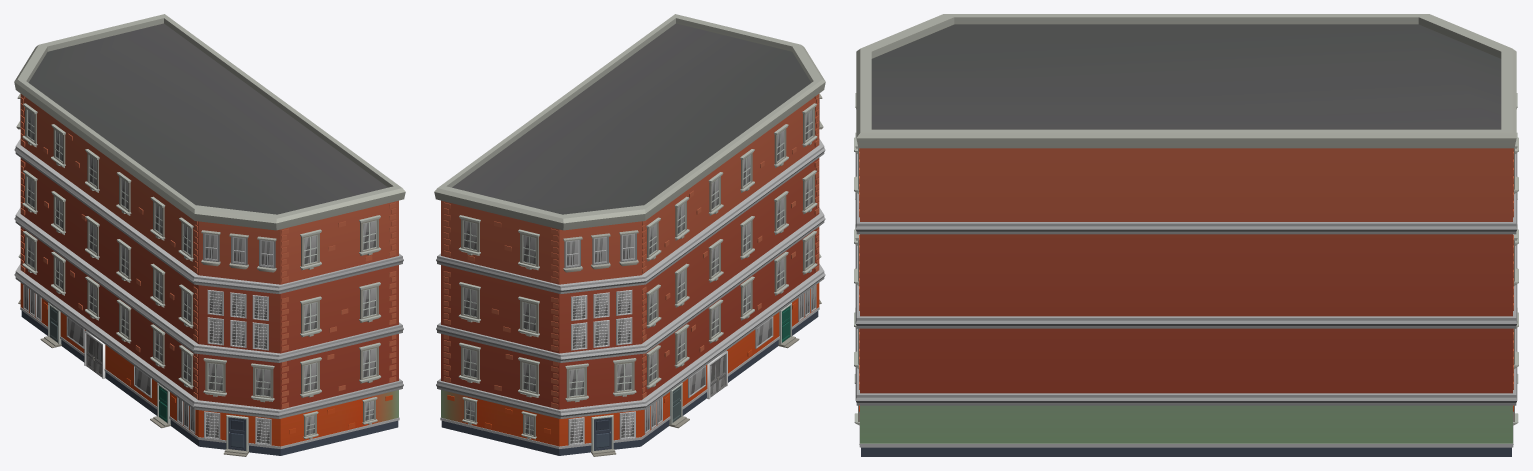
The model's file is Building_25_6_D.glb.
3 renders of one model, left to right at view 1: azimuth 30°, elevation 25°; view 2: azimuth 150°, elevation 25°; view 3: azimuth 270°, elevation 25°, orthographic. The views are drawn at different scales.
Visible parts, largest first — view 1: Building_25_6_D; view 2: Building_25_6_D; view 3: Building_25_6_D.
Part boxes in pixels (x1=…): Building_25_6_D: x1=14, y1=14, x2=405, y2=456; Building_25_6_D: x1=434, y1=14, x2=825, y2=456; Building_25_6_D: x1=854, y1=14, x2=1518, y2=456.
Bounding box in the file's own units: 12.91 × 15.96 × 29.41.
3 materials, 3 textured.
